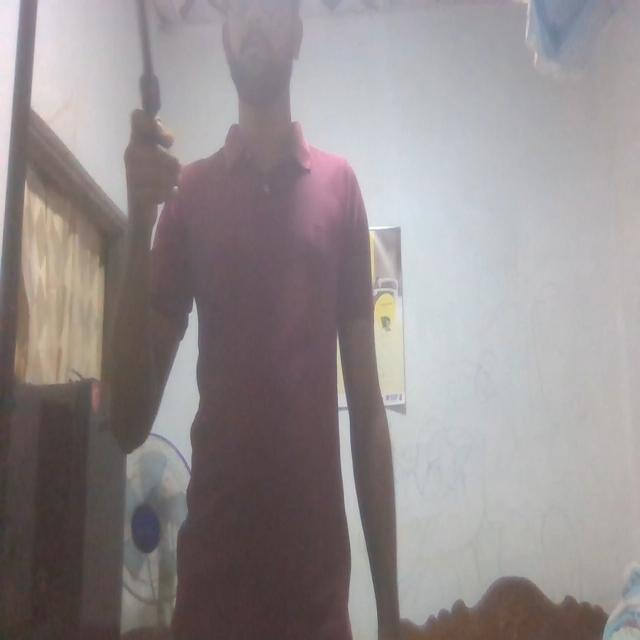Gun_Holder: (120, 0, 187, 188)
Person: (108, 0, 400, 640)
